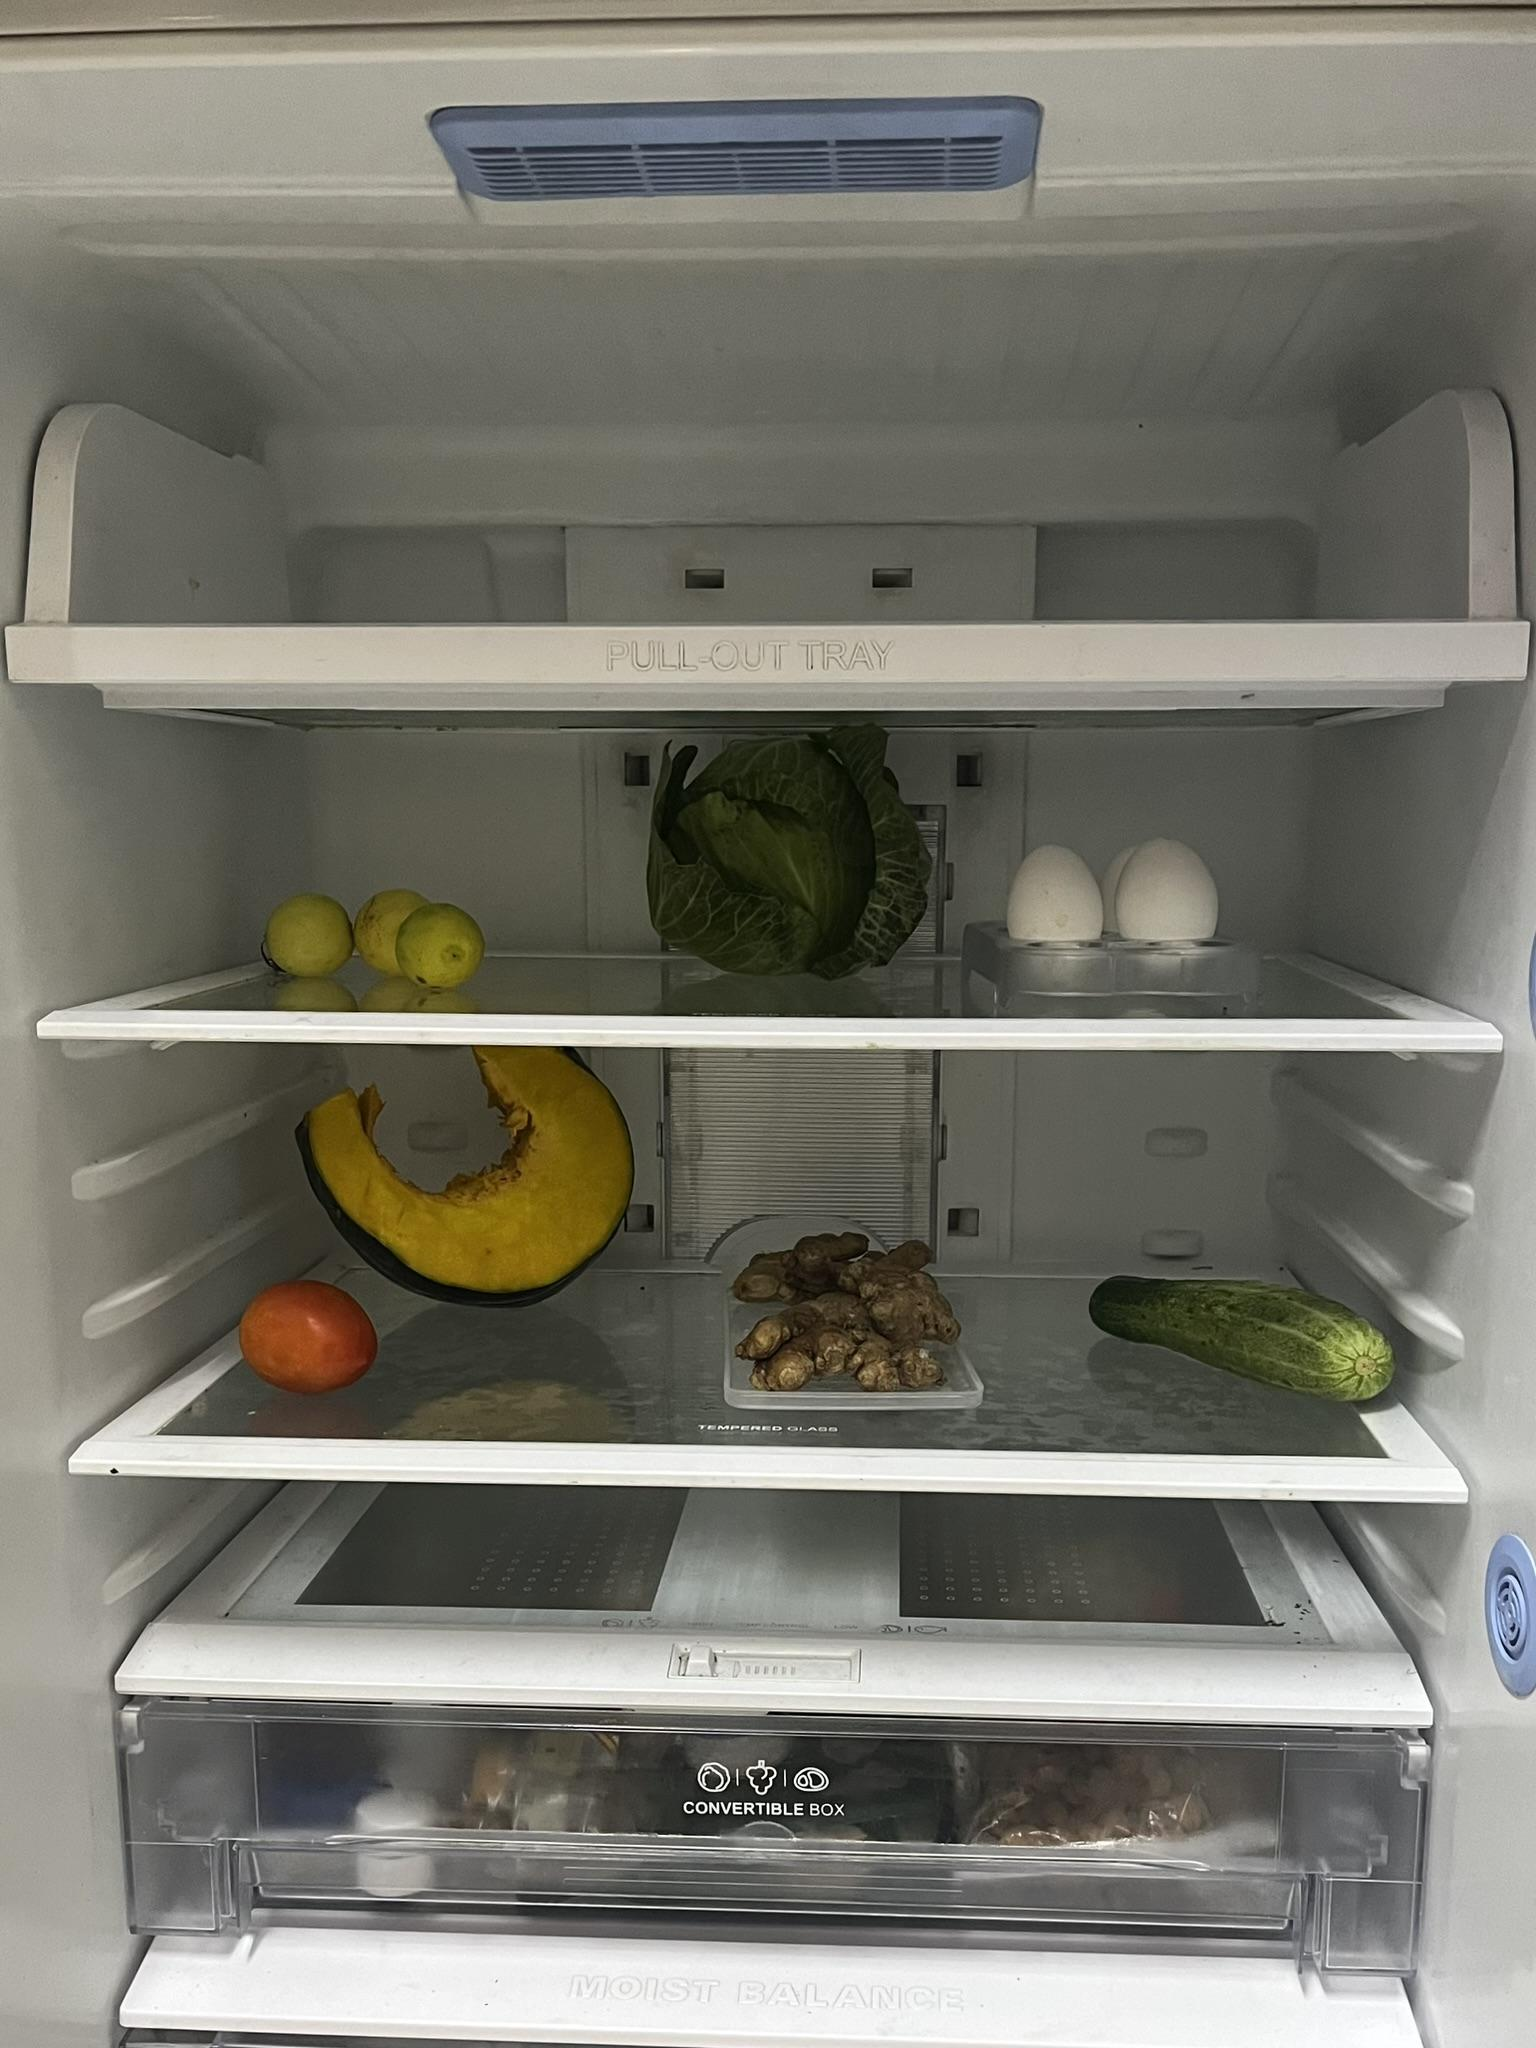cabbage: (641, 716, 947, 993)
cucumber: (1083, 1271, 1397, 1413)
egg: (994, 830, 1223, 974)
ginger: (726, 1216, 970, 1397)
lemon: (250, 884, 494, 1000)
pumpkin: (297, 1037, 644, 1316)
tomato: (223, 1280, 390, 1400)
